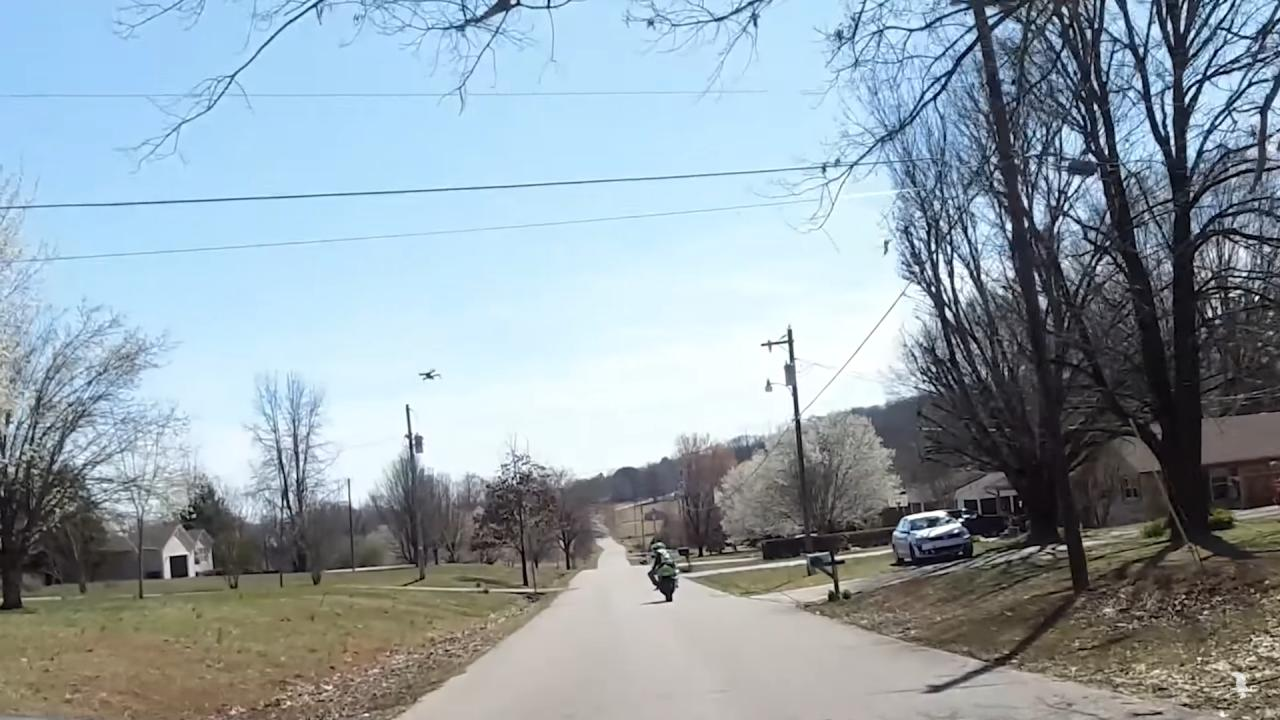Drone: (412, 361, 446, 389)
